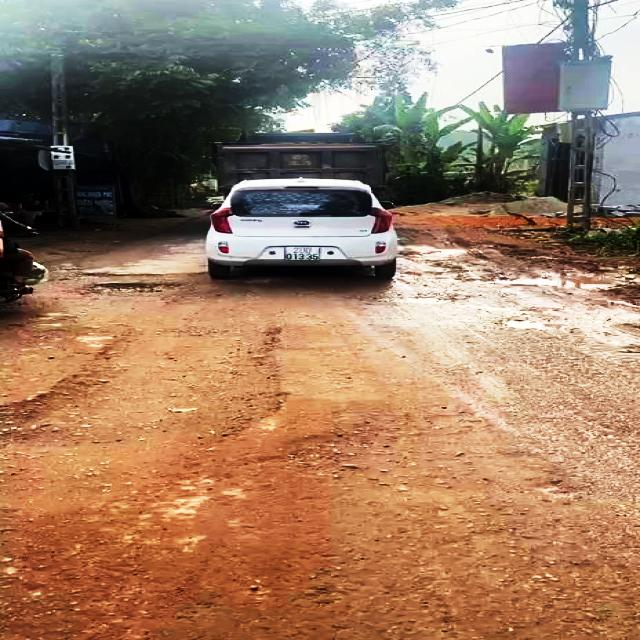pothole: (0, 329, 281, 451), (81, 278, 181, 300), (373, 292, 473, 306), (500, 312, 548, 333)
